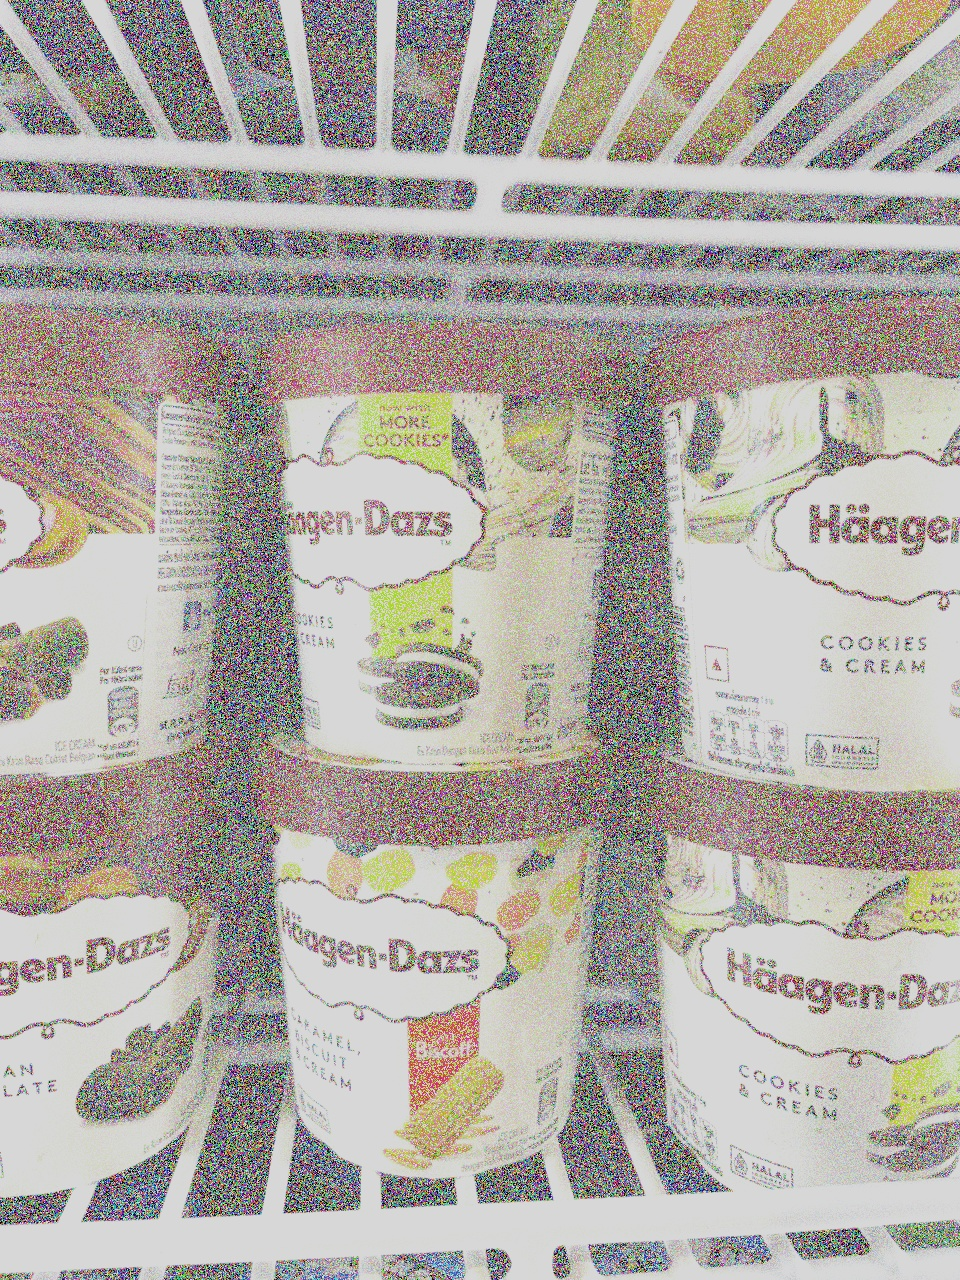Haagen-Dazs IceCream Tub: (239, 316, 624, 786), (223, 712, 616, 1163), (642, 312, 960, 793), (630, 728, 960, 1179), (0, 712, 240, 1196), (0, 288, 224, 771)
